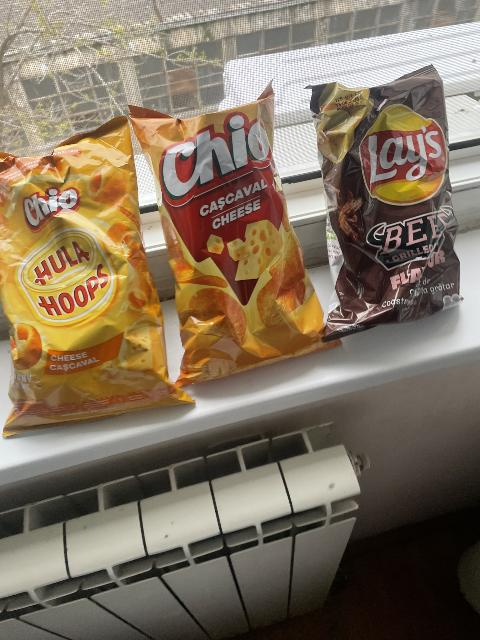Chio Cascaval 125g: (133, 83, 328, 377)
Chio Hula Hoops Cheese 70g: (0, 122, 186, 421)
Lays Beef Grilled Ribs 125g: (316, 64, 457, 331)
